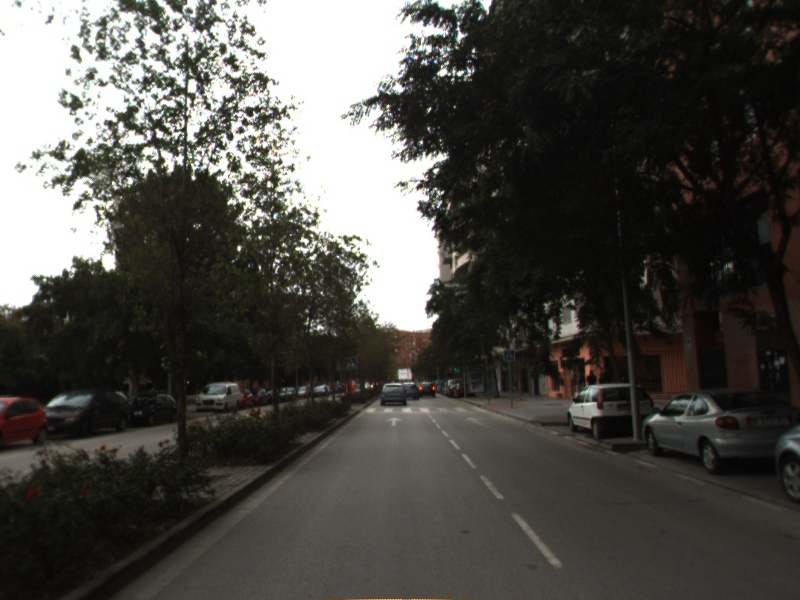STRAIGHT: (462, 415, 487, 428), (384, 415, 406, 428)
